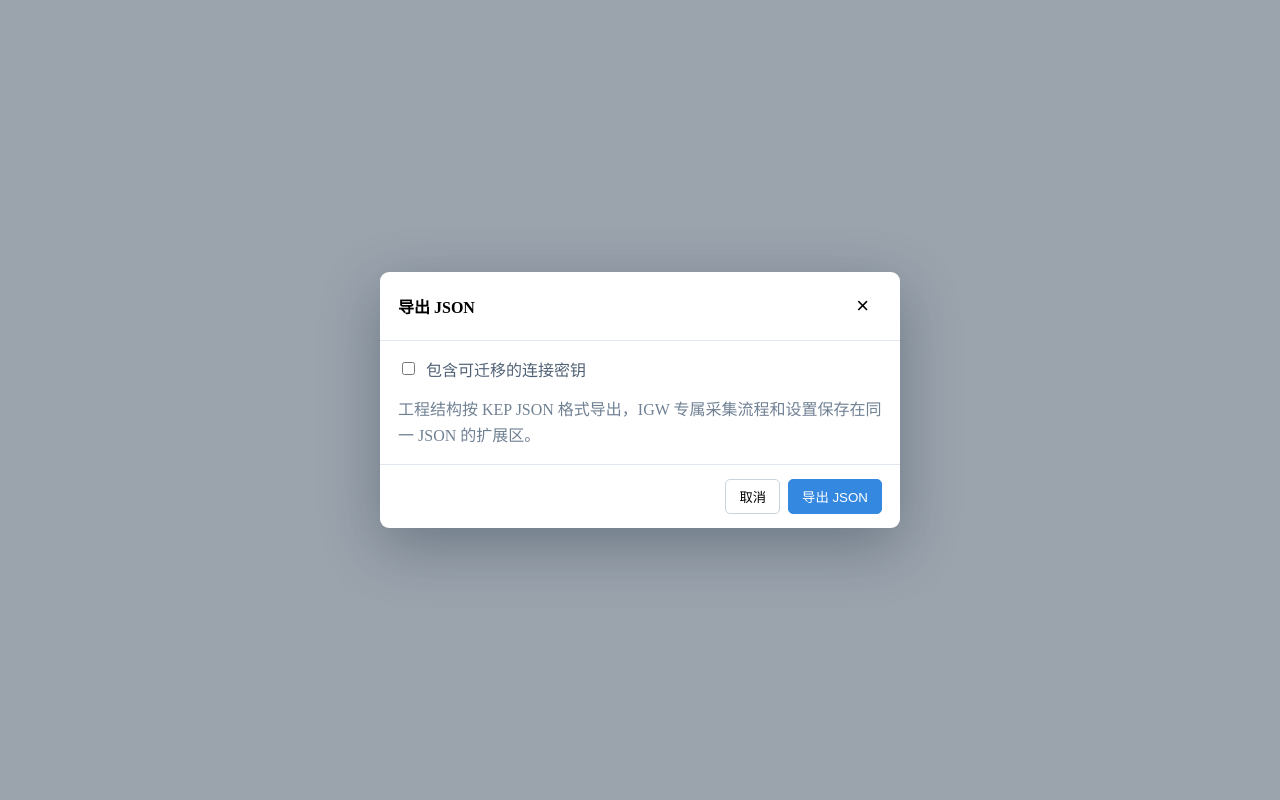
Scenario: project JSON dialogs › holds download feedback until handoff settles and retains the dialog on failure
What coordinates should you click on to do the following:
click the button "导出 JSON"
I would click on:
 (835, 497)
Its box is [788,479,882,514].
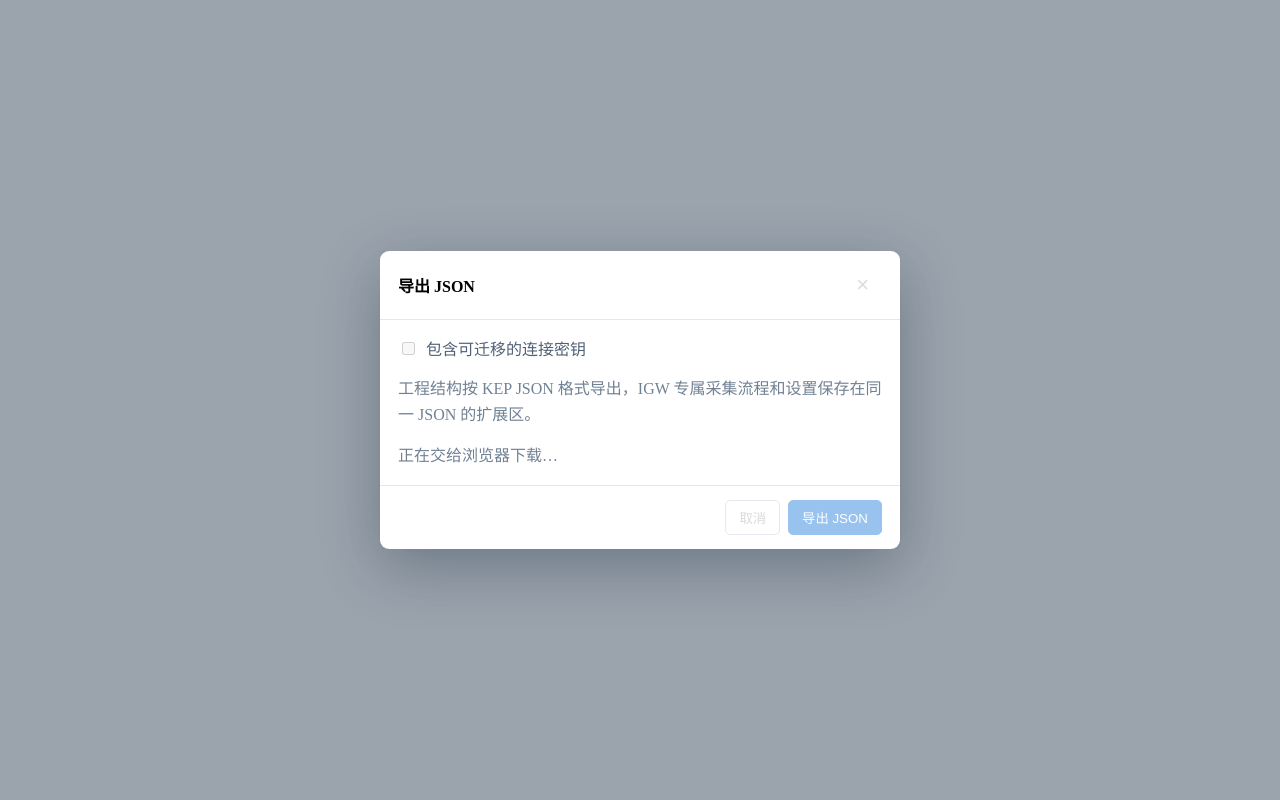
Expected: the message "正在交给浏览器下载…" is shown, [398,447,558,464]
What coordinates should you click on to do the following:
click the button "导出 JSON"
I would click on:
 (835, 517)
Its box is [788,500,882,535].
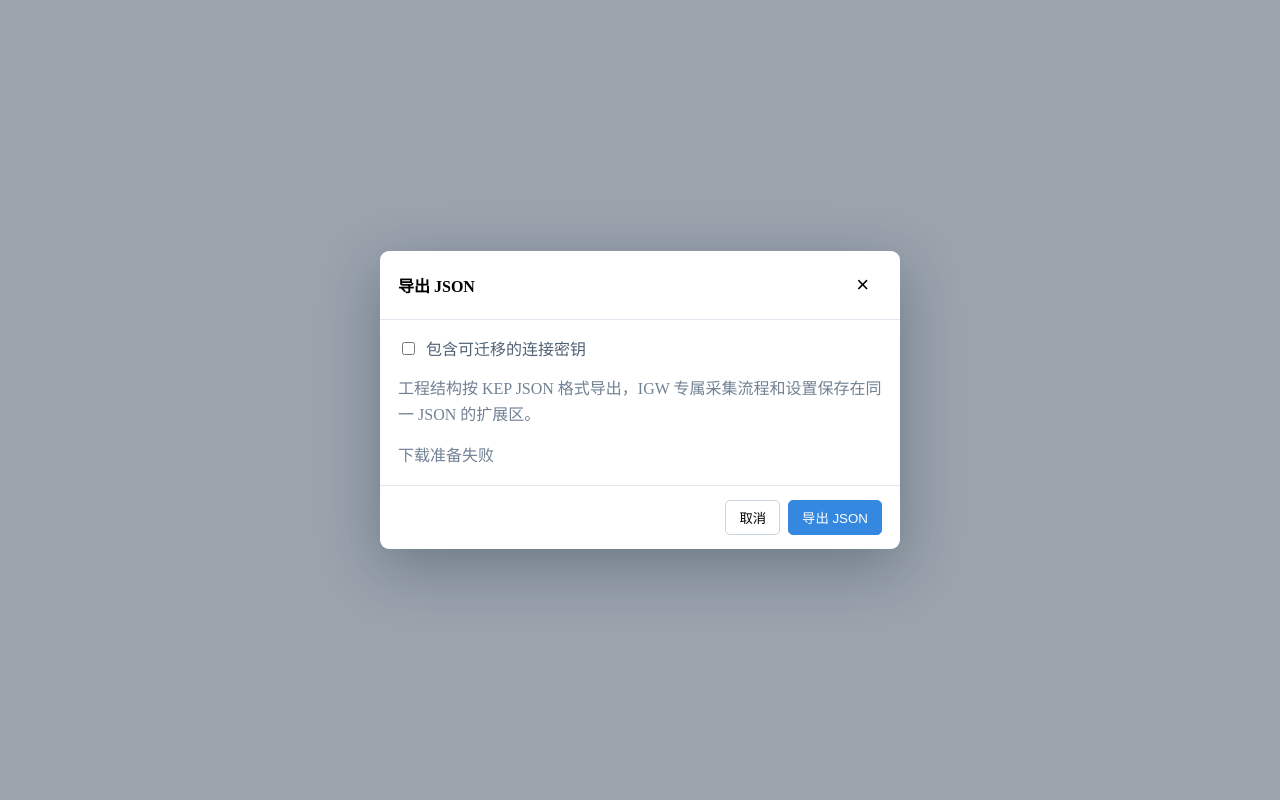
Expected: the message "下载准备失败" is shown, [398,447,494,464]
Expected: the button "导出 JSON" is enabled, [788,500,882,535]
